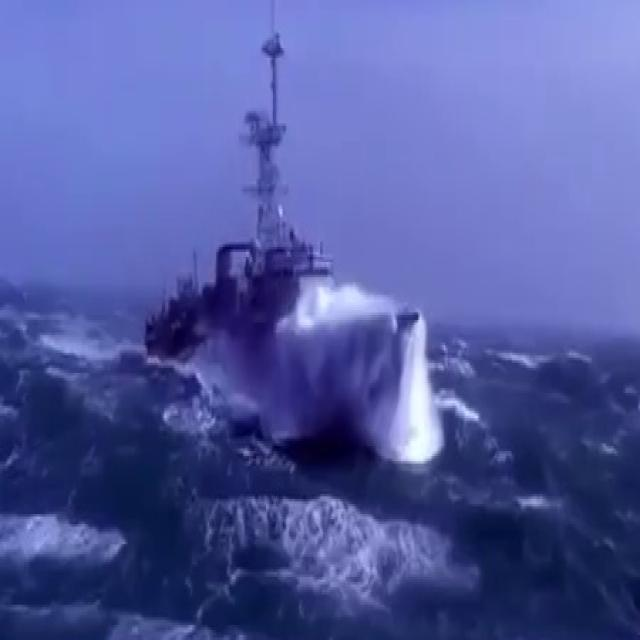houseboat: (133, 21, 413, 444)
